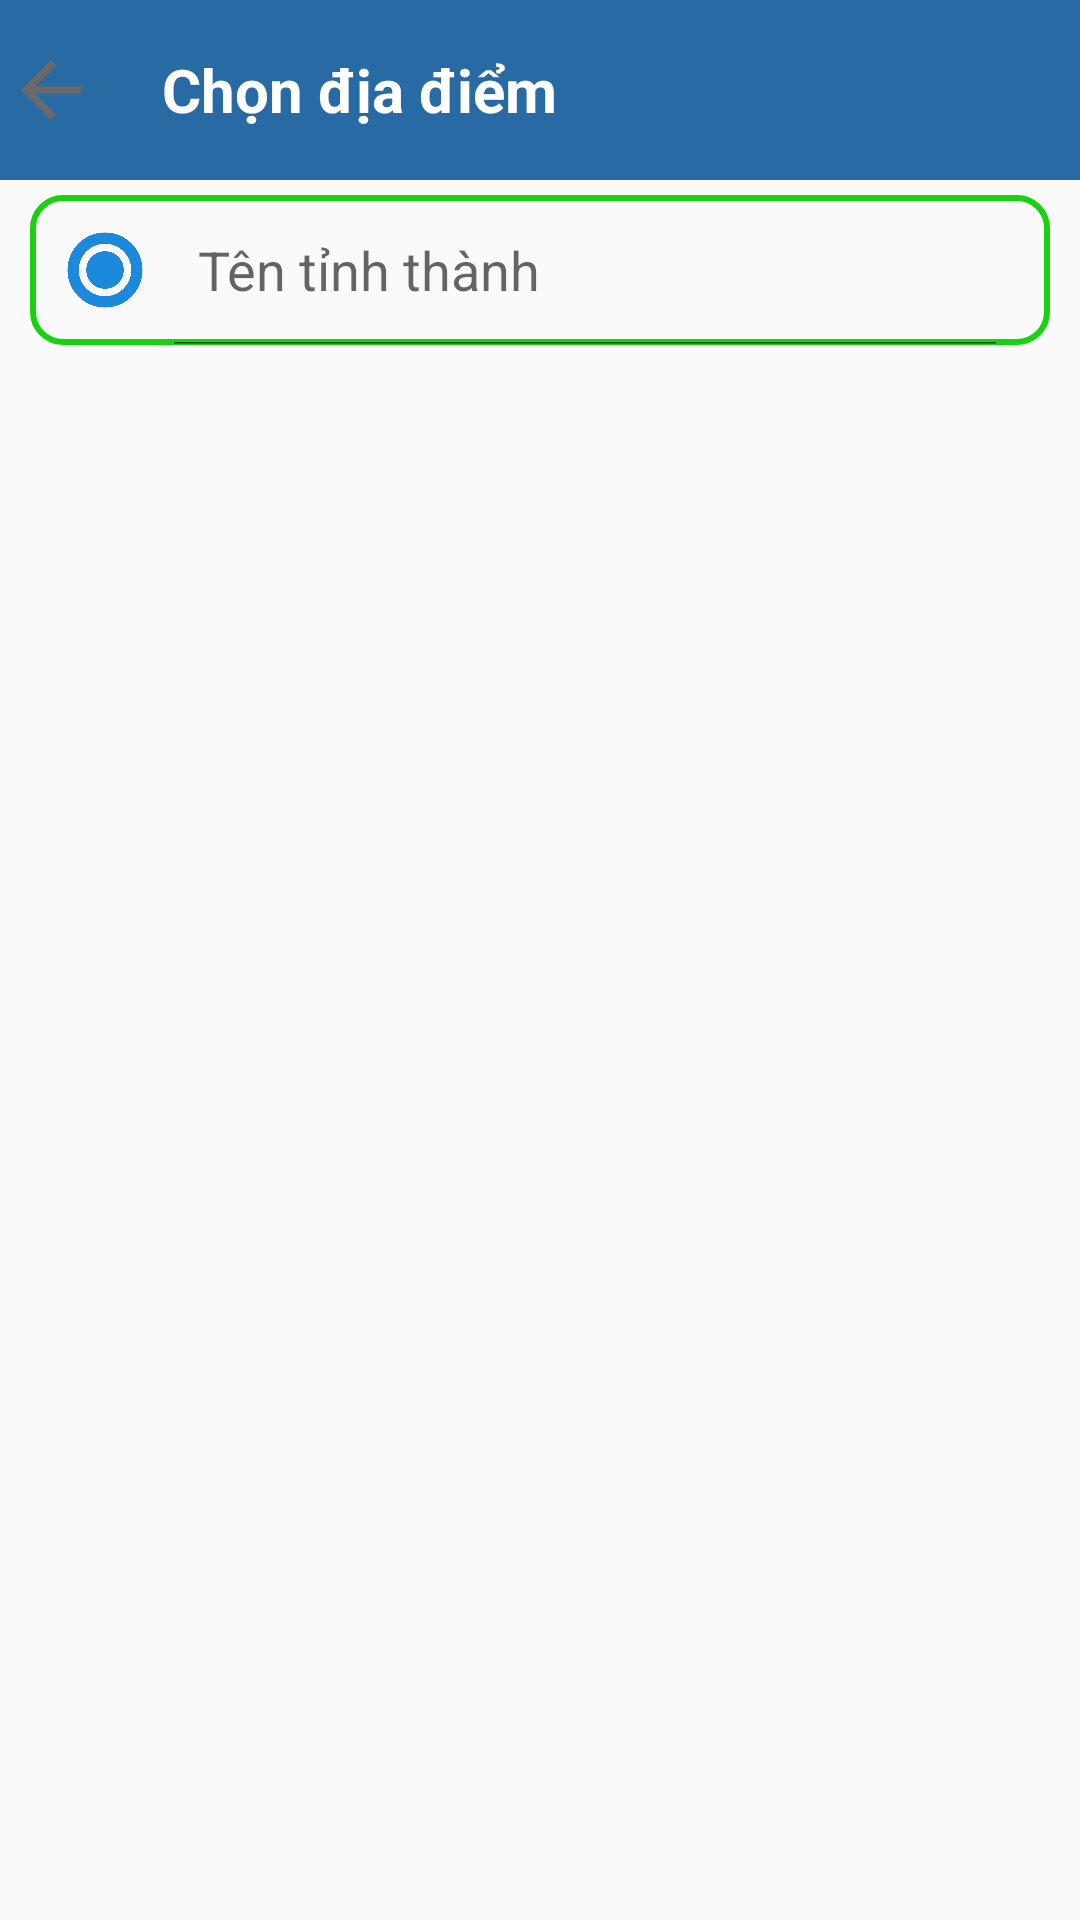

Icons on this 1080*1920 Android screen, each with its box as (x1, y1, x2, y2):
back: (21, 60, 81, 120)
